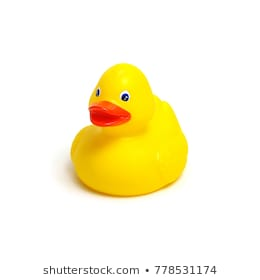duck: (46, 47, 206, 207)
